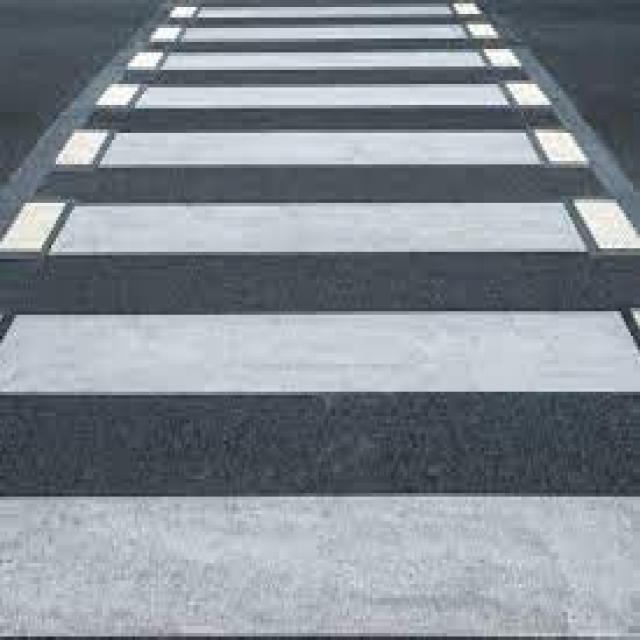crosswalk: (0, 2, 640, 640)
